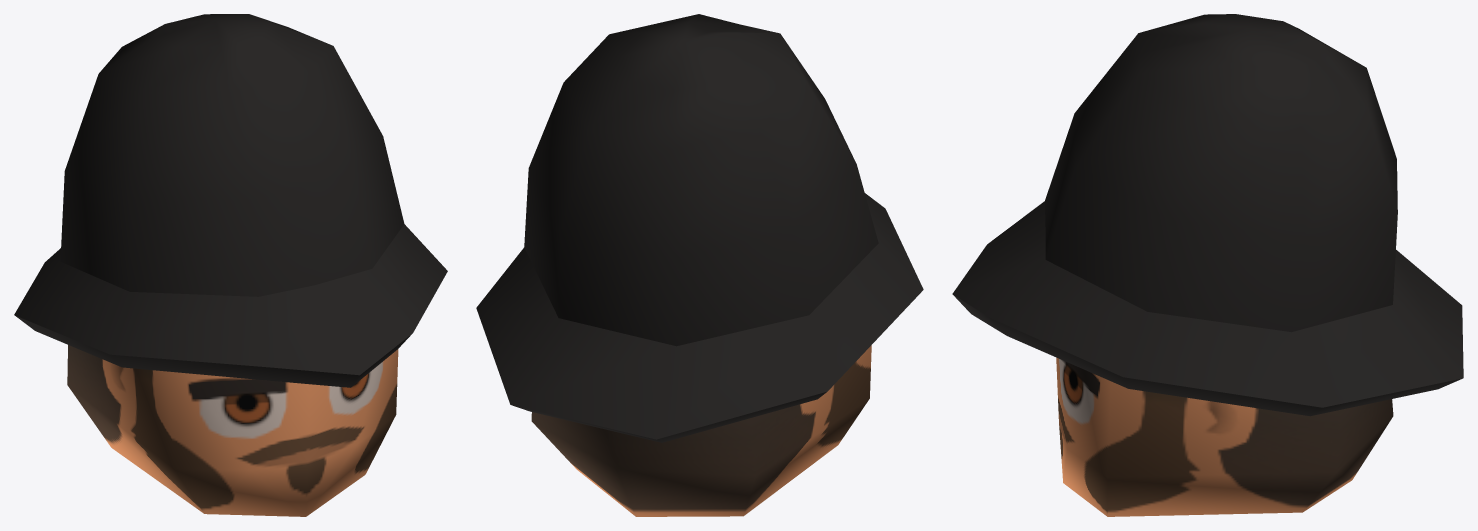
Rendered from GG BobbyHat.fbx.
3 views of the same model, side by side, from view 1: azimuth 30°, elevation 25°; view 2: azimuth 150°, elevation 25°; view 3: azimuth 270°, elevation 25° (orthographic). The views are drawn at different scales.
Visible parts, largest first — view 1: Head_GG; view 2: Head_GG; view 3: Head_GG.
Boxes of the visible parts, x1,y1,x2,y2 form: Head_GG: (14,14,447,516); Head_GG: (476,14,923,516); Head_GG: (952,14,1463,516).
Size of the model in its own units: 201 by 243 by 247.
Materials: 1 (1 with a texture image).
